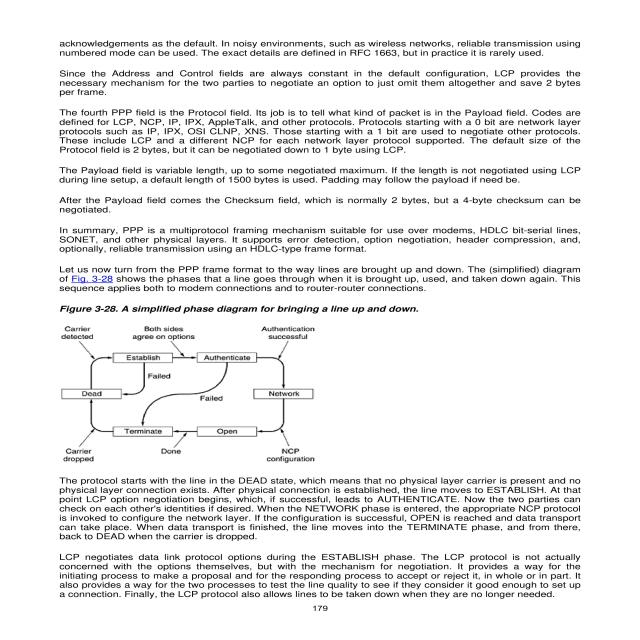diagram: (15, 297, 499, 468)
